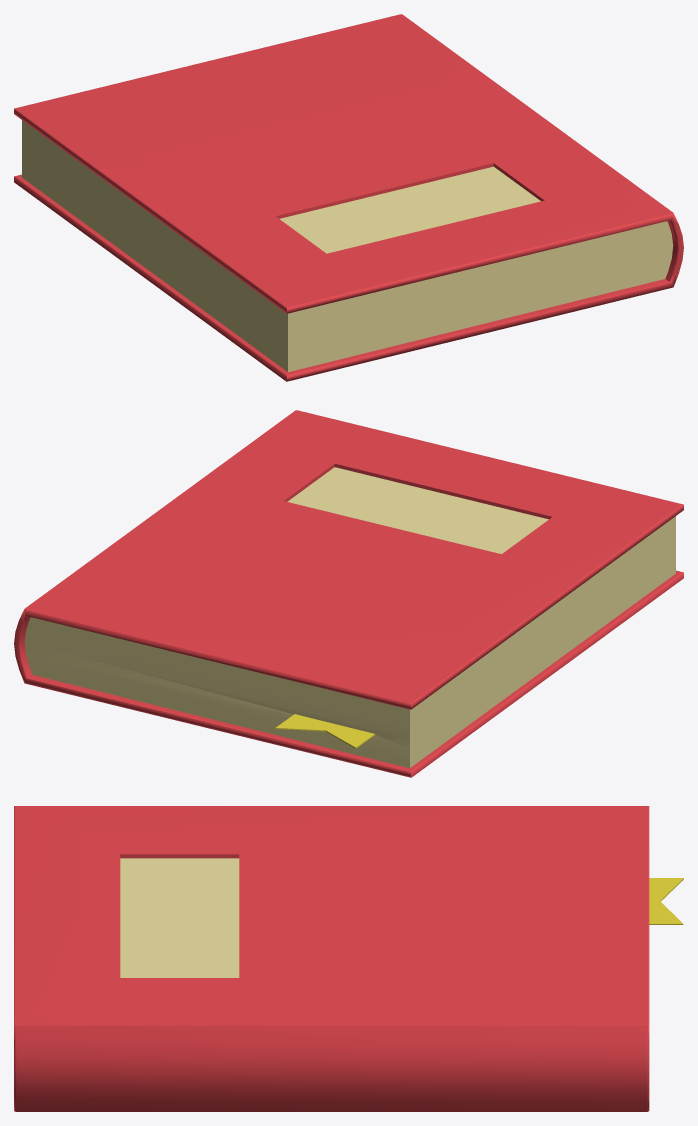
The model's file is book_red.fbx.
The picture shows the model from 3 angles, top to bottom: view 1: azimuth 30°, elevation 25°; view 2: azimuth 150°, elevation 25°; view 3: azimuth 270°, elevation 25°; orthographic projection. The views are drawn at different scales.
Visible parts, largest first — view 1: Cube.001; view 2: Cube.001; view 3: Cube.001.
Part boxes in pixels (x1,y1,x2,y2): Cube.001: (14, 14, 683, 381); Cube.001: (14, 410, 683, 777); Cube.001: (14, 806, 683, 1111).
Size of the model in its own units: 218 by 38.71 by 273.
1 material, 1 textured.
